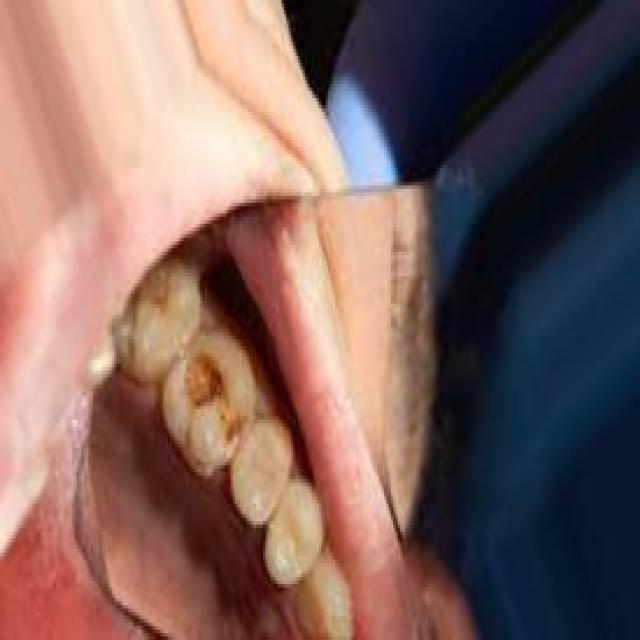caries: (170, 344, 225, 423), (218, 399, 250, 451)
